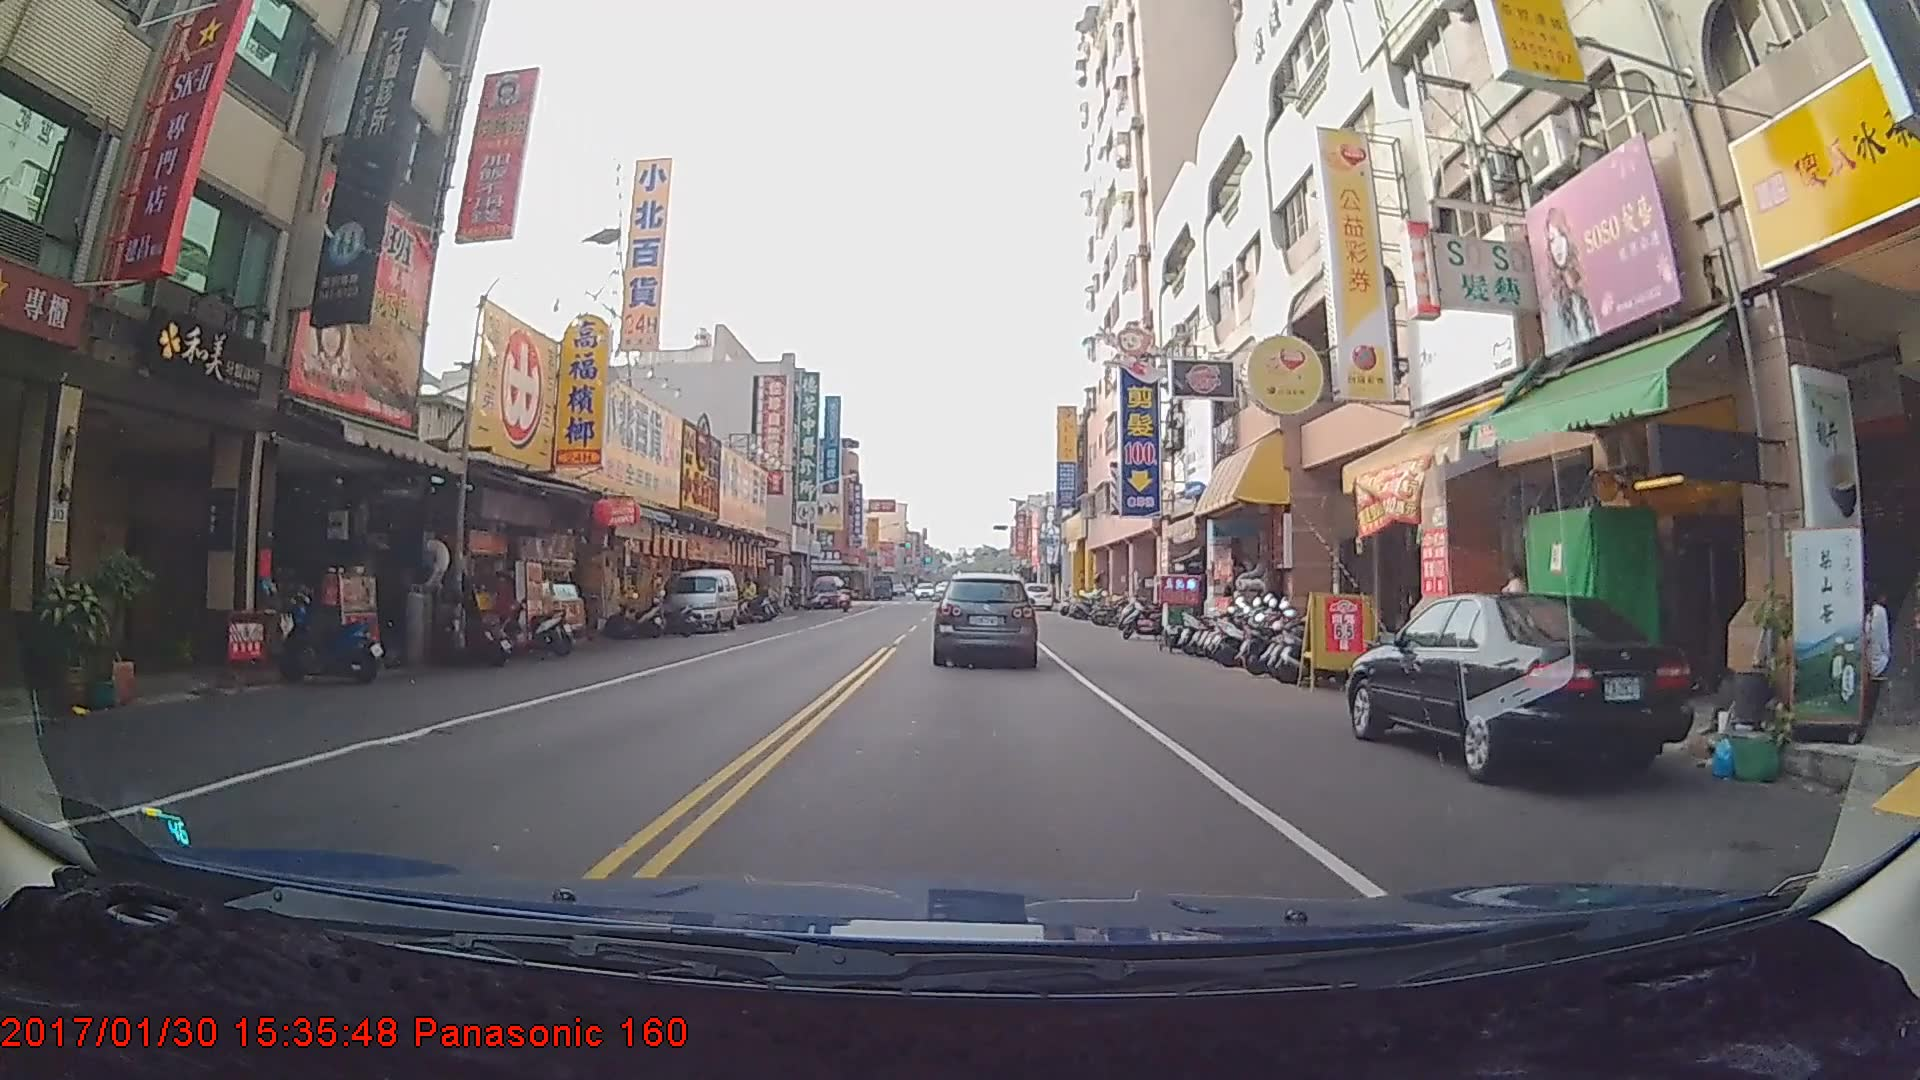pedestrian: (1863, 582, 1920, 728)
vehicle: (1351, 588, 1691, 782), (934, 572, 1036, 667), (664, 566, 739, 631), (813, 574, 843, 606), (1020, 581, 1052, 609)
